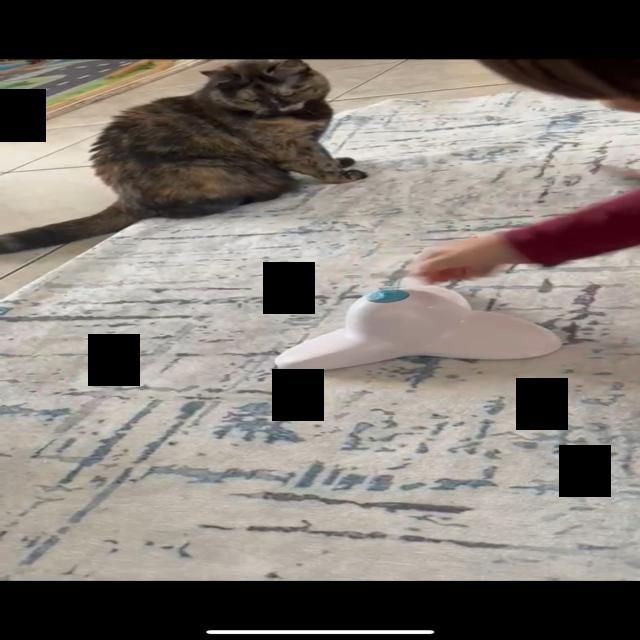authorized: (0, 58, 368, 255)
